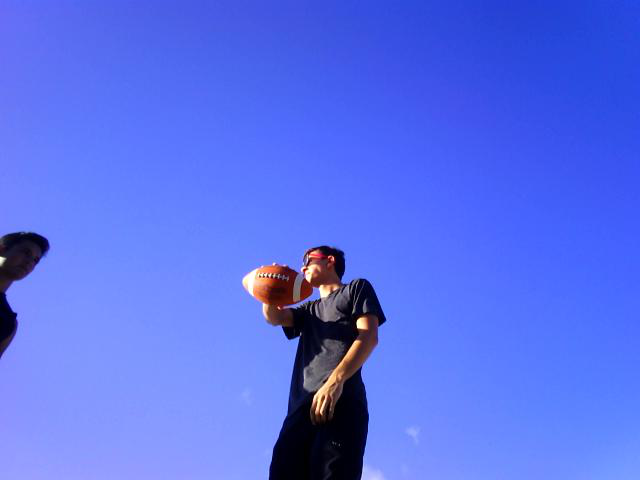football: (240, 261, 313, 307)
